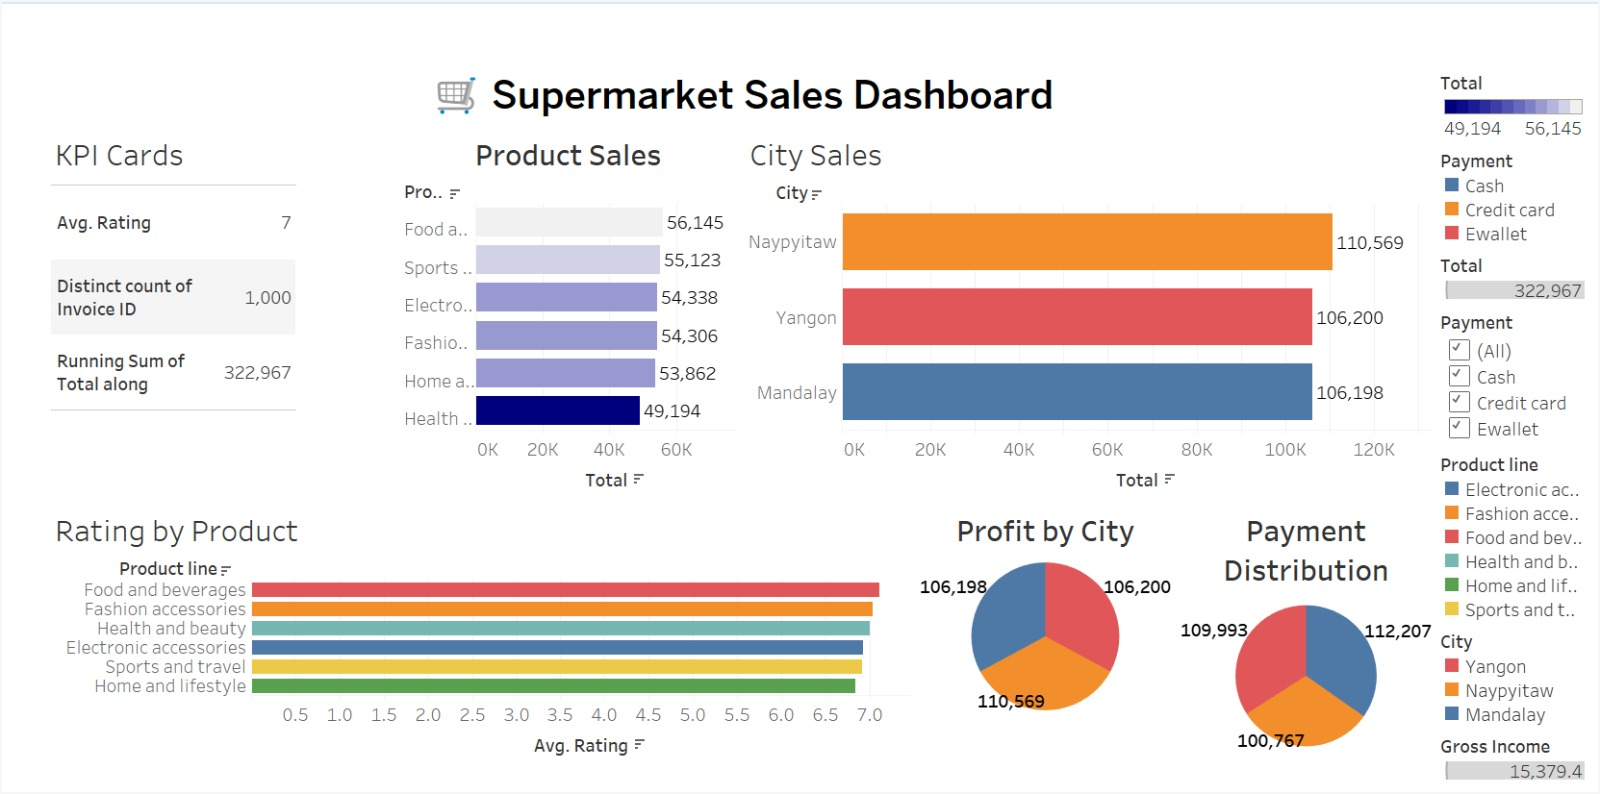

What the dashboard file says about the page in this screenshot:
{"tool":"tableau","page":{"name":"🛒 Supermarket Sales Dashboard","canvas":[1000,1000],"units":"permille","ordinal":0},"visuals":[{"type":"title","box":[5,10.7,890.3,83.1]},{"type":"legend","title":"Product Sales Breakdown","param":"[federated.0r9wymy0t0ovua16o2ky31wp8oyy].[sum:Total:qk]","box":[895.3,10.7,99.8,108.6]},{"type":"worksheet","title":"KPI Cards","mark":"Automatic","box":[5,93.8,222.6,447.7]},{"type":"worksheet","title":"Product Sales Breakdown","mark":"Automatic","rows":["Product line"],"cols":["Total"],"box":[227.6,93.8,222.6,447.7]},{"type":"worksheet","title":"City Sales","mark":"Automatic","rows":["City"],"cols":["Total"],"box":[450.1,93.8,445.1,447.7]},{"type":"legend","title":"Payment Distribution","param":"[federated.0r9wymy0t0ovua16o2ky31wp8oyy].[none:Payment:nk]","box":[895.3,119.3,99.8,146.1]},{"type":"legend","title":"Payment Distribution","param":"[federated.0r9wymy0t0ovua16o2ky31wp8oyy].[sum:Total:qk]","box":[895.3,265.4,99.8,79.1]},{"type":"filter","title":"Payment Distribution","param":"[federated.0r9wymy0t0ovua16o2ky31wp8oyy].[none:Payment:nk]","box":[895.3,344.5,99.8,198.4]},{"type":"worksheet","title":"Rating by Product","mark":"Automatic","rows":["Product line"],"cols":["Rating"],"box":[5,541.5,556.4,447.7]},{"type":"worksheet","title":"City Profit","mark":"Pie","box":[561.4,541.5,166.9,447.7]},{"type":"worksheet","title":"Payment Distribution","mark":"Pie","box":[728.3,541.5,166.9,447.7]},{"type":"legend","title":"Rating by Product","param":"[federated.0r9wymy0t0ovua16o2ky31wp8oyy].[none:Product line:nk]","box":[895.3,542.9,99.8,221.2]},{"type":"legend","title":"City Profit","param":"[federated.0r9wymy0t0ovua16o2ky31wp8oyy].[none:City:nk]","box":[895.3,764.1,99.8,146.1]},{"type":"legend","title":"City Profit","param":"[federated.0r9wymy0t0ovua16o2ky31wp8oyy].[sum:gross income:qk]","box":[895.3,910.2,99.8,79.1]}]}

Visuals, with their boxes on the dashboard's canvas, which has no fixed pixel size, in thousandths of its width and height (x1, y1, x2, y2). These are canvas units, not pixel positions in the 1600x794 screenshot, which may show the page scaled, cropped or inside an application window:
title: Rect(5, 11, 895, 94)
"Product Sales Breakdown" legend: Rect(895, 11, 995, 119)
"KPI Cards" worksheet: Rect(5, 94, 228, 542)
"Product Sales Breakdown" worksheet: Rect(228, 94, 450, 542)
"City Sales" worksheet: Rect(450, 94, 895, 542)
"Payment Distribution" legend: Rect(895, 119, 995, 265)
"Payment Distribution" legend: Rect(895, 265, 995, 344)
"Payment Distribution" filter: Rect(895, 344, 995, 543)
"Rating by Product" worksheet: Rect(5, 542, 561, 989)
"City Profit" worksheet (Pie marks): Rect(561, 542, 728, 989)
"Payment Distribution" worksheet (Pie marks): Rect(728, 542, 895, 989)
"Rating by Product" legend: Rect(895, 543, 995, 764)
"City Profit" legend: Rect(895, 764, 995, 910)
"City Profit" legend: Rect(895, 910, 995, 989)
